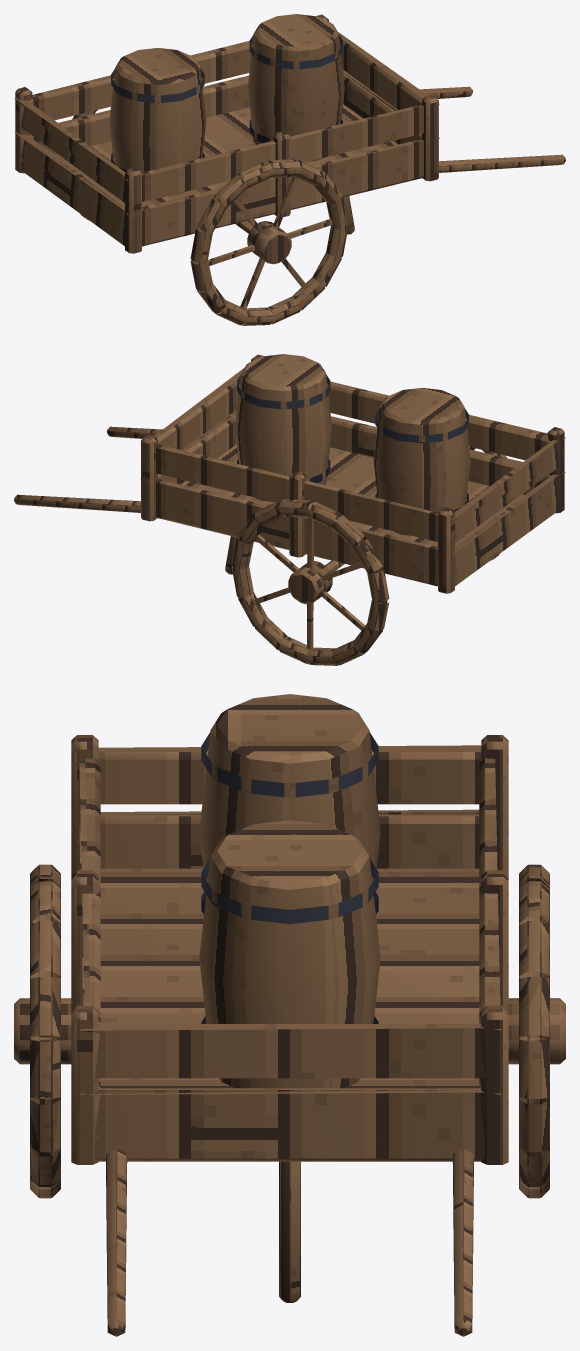
The model's file is handcart_1.glb.
3 views of the same model, one above another, from view 1: azimuth 30°, elevation 25°; view 2: azimuth 150°, elevation 25°; view 3: azimuth 270°, elevation 25° (orthographic). The views are drawn at different scales.
Visible parts, largest first — view 1: handcart_2; view 2: handcart_2; view 3: handcart_2.
Part boxes in pixels (x1,y1,x2,y2): handcart_2: (14,14,565,325); handcart_2: (14,354,565,665); handcart_2: (14,694,565,1336).
Bounding box in the file's own units: 2.45 × 1.16 × 1.4.
3 materials, 3 textured.
